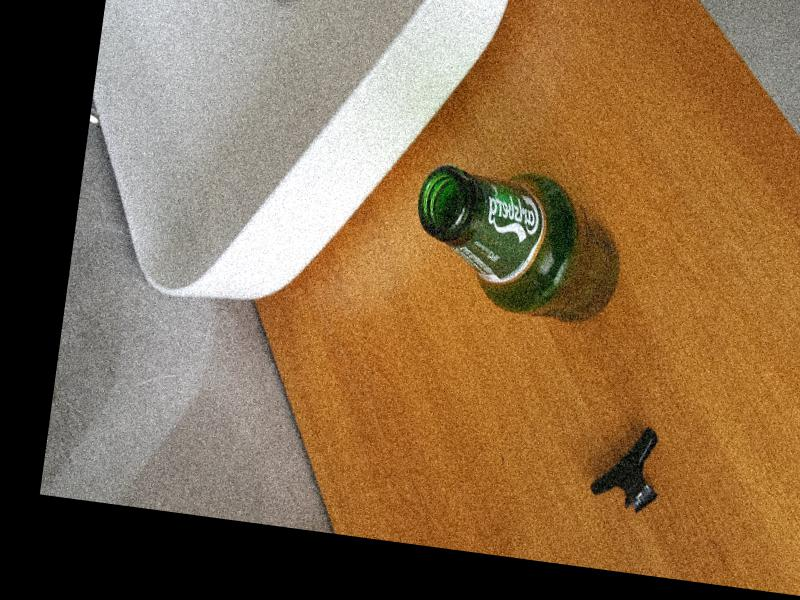Beer: (407, 161, 632, 326)
